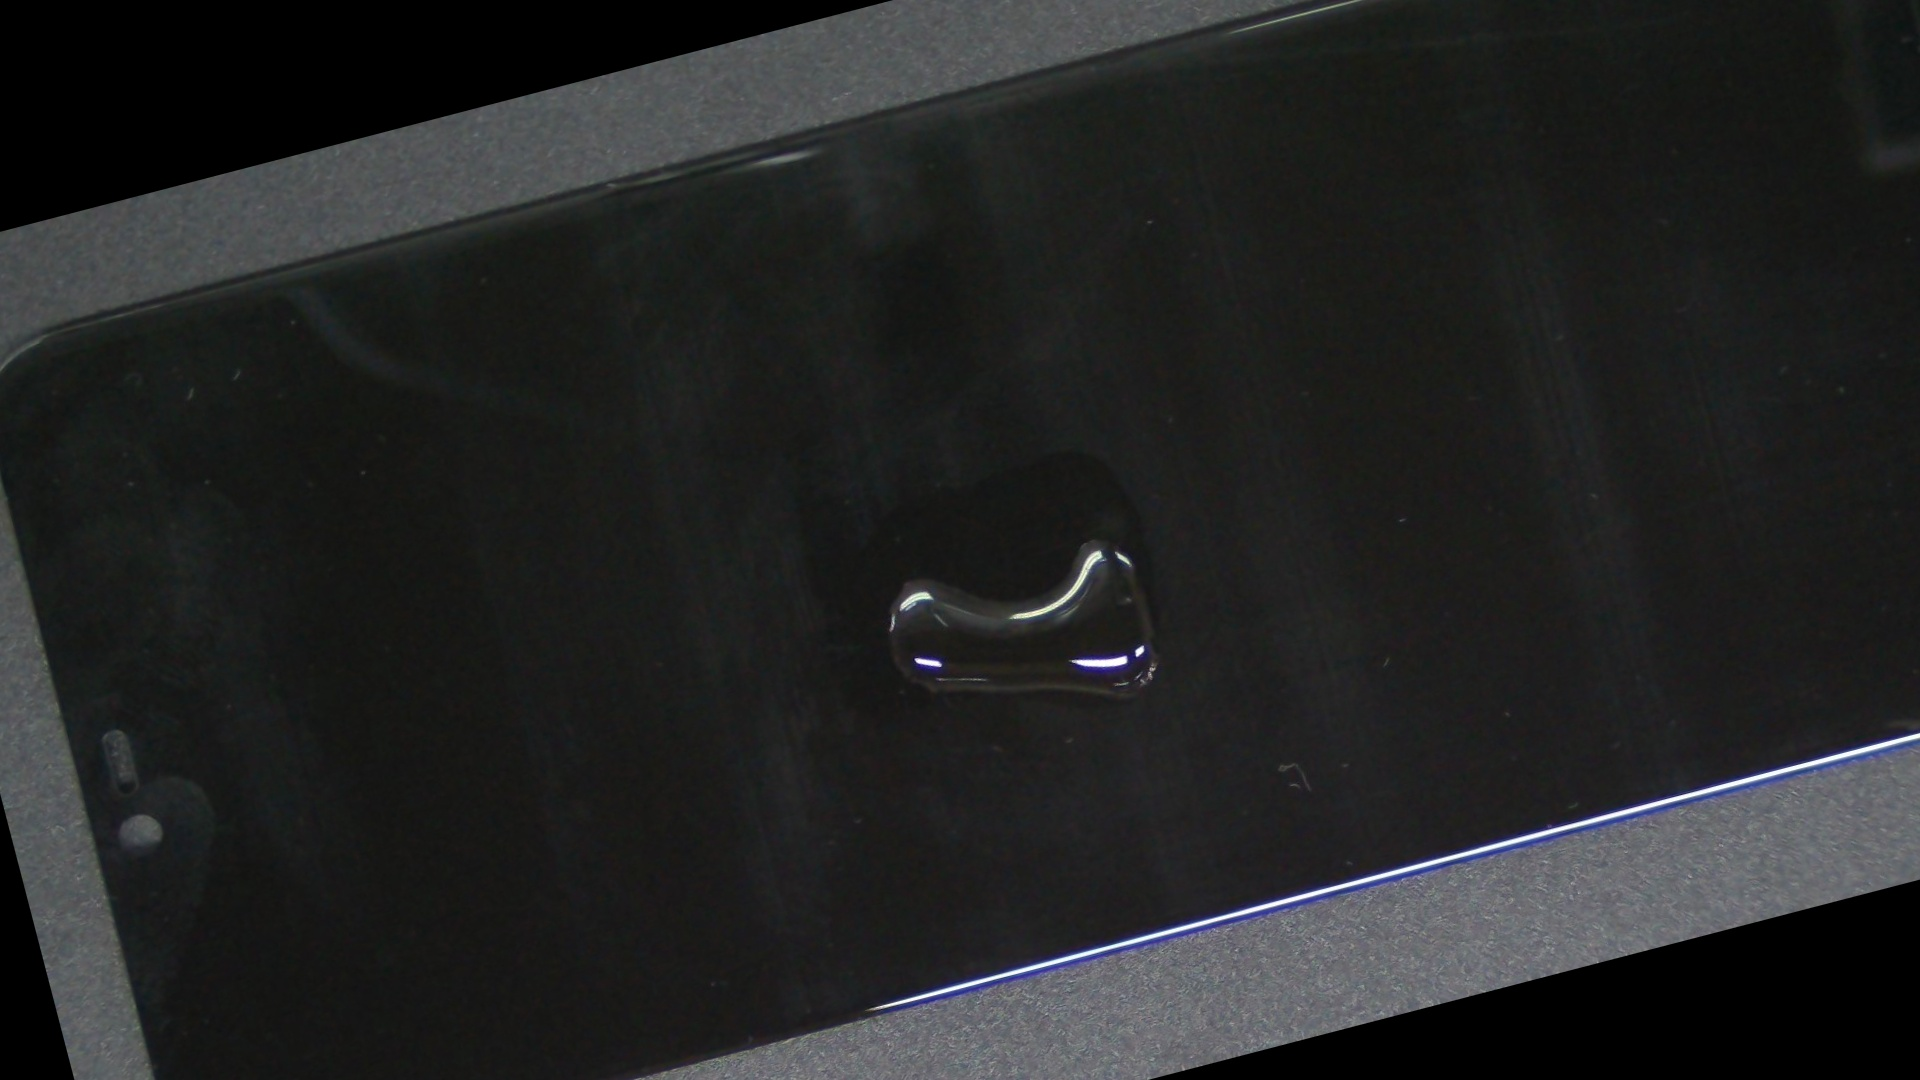oil: (386, 190, 1430, 974)
